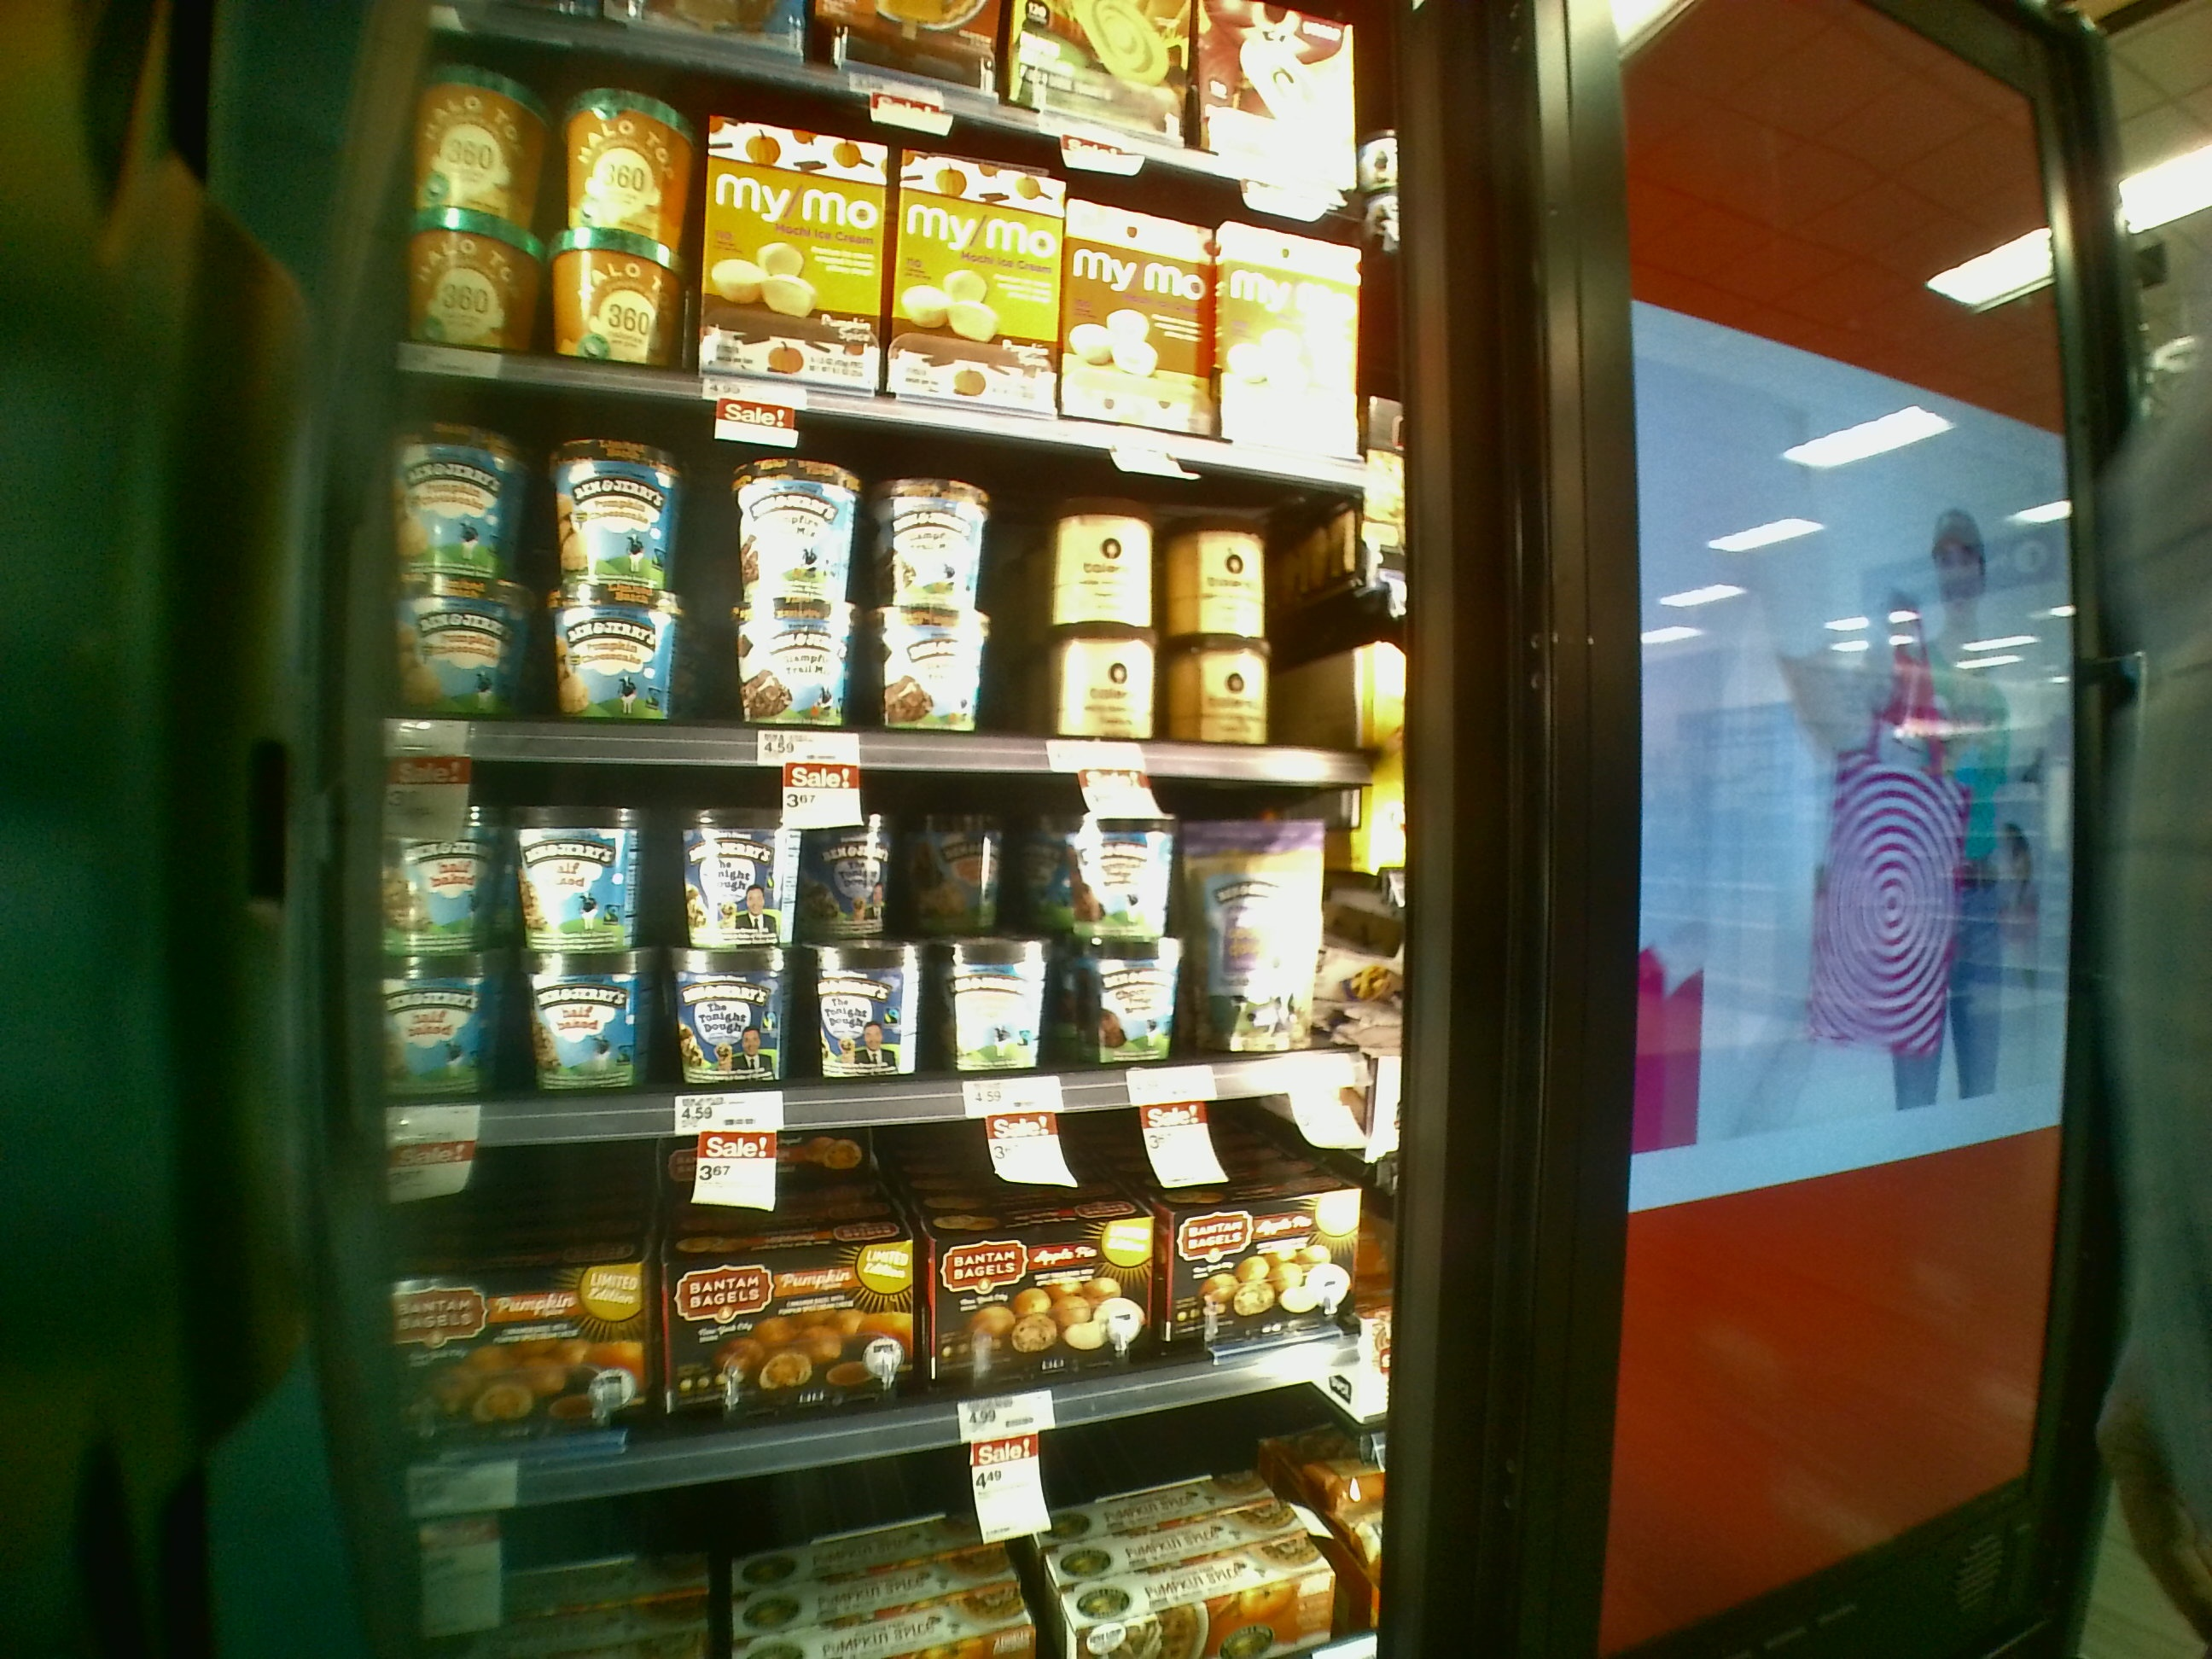shelf: (388, 389, 1378, 765), (371, 737, 1385, 1094), (392, 1121, 1383, 1446)
